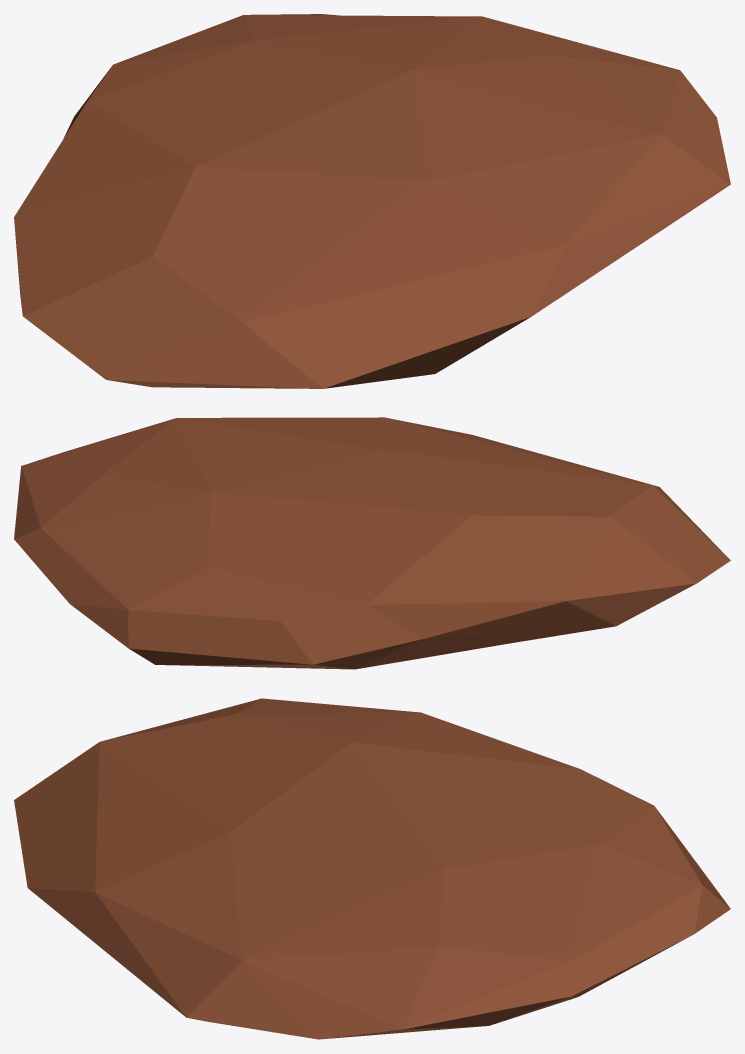
The model's file is Large_VeryFlatRock1.fbx.
3 views of the same model, one above another, from view 1: azimuth 30°, elevation 25°; view 2: azimuth 150°, elevation 25°; view 3: azimuth 270°, elevation 25° (orthographic). The views are drawn at different scales.
Visible parts, largest first — view 1: Large_VeryFlatRock1; view 2: Large_VeryFlatRock1; view 3: Large_VeryFlatRock1.
Part boxes in pixels (left/top/right/bottom): Large_VeryFlatRock1: left=14, top=14, right=730, bottom=388; Large_VeryFlatRock1: left=14, top=417, right=730, bottom=669; Large_VeryFlatRock1: left=14, top=698, right=730, bottom=1039.
Bounding box in the file's own units: 8.46 × 1.59 × 7.42.
